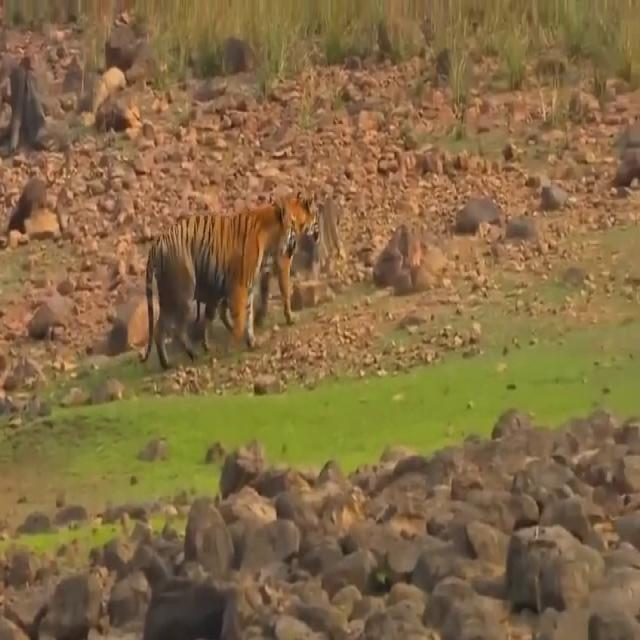tiger: (140, 195, 300, 368)
